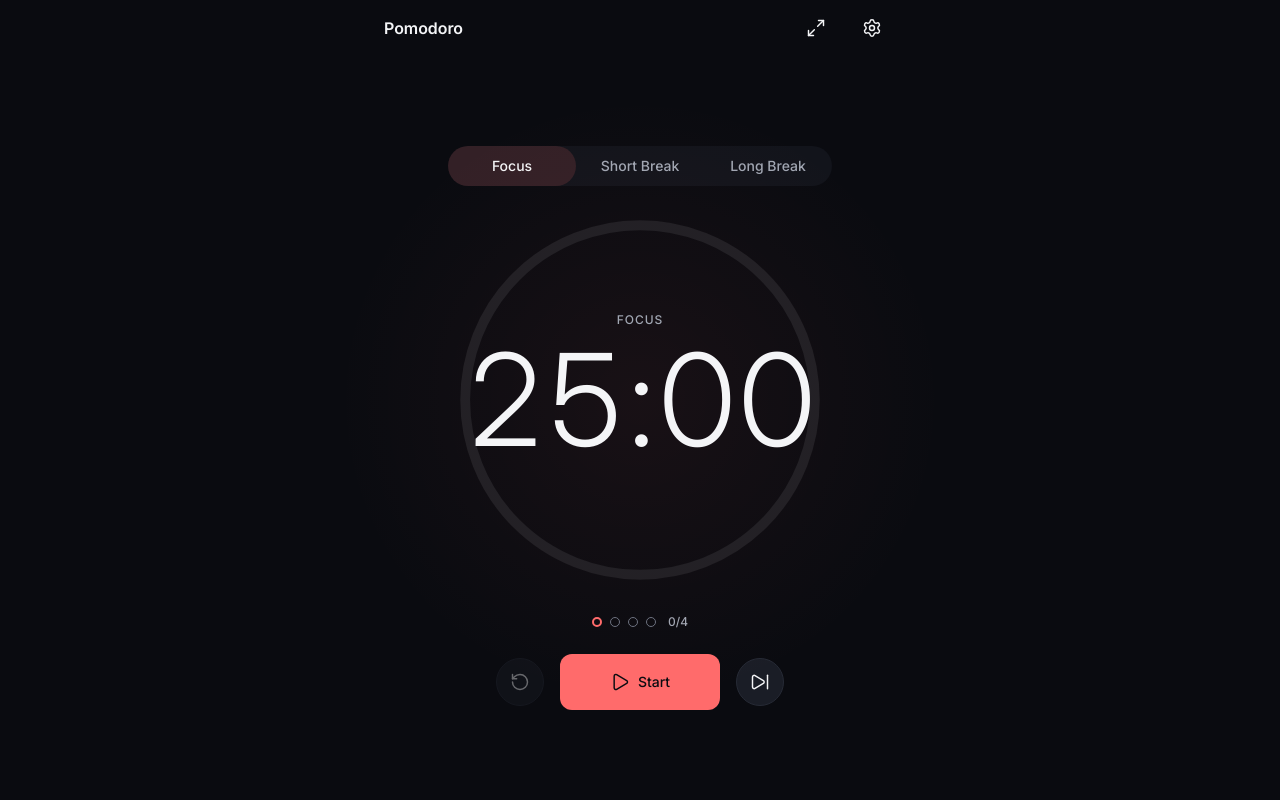
Settings notification status (POMO-AC15, POMO-AC25) › unsupported: N4 with Sound on, N5 with Sound off, no button, no error
Step 1. Click the button named "Open settings" → (872, 28), box [848, 4, 896, 52]
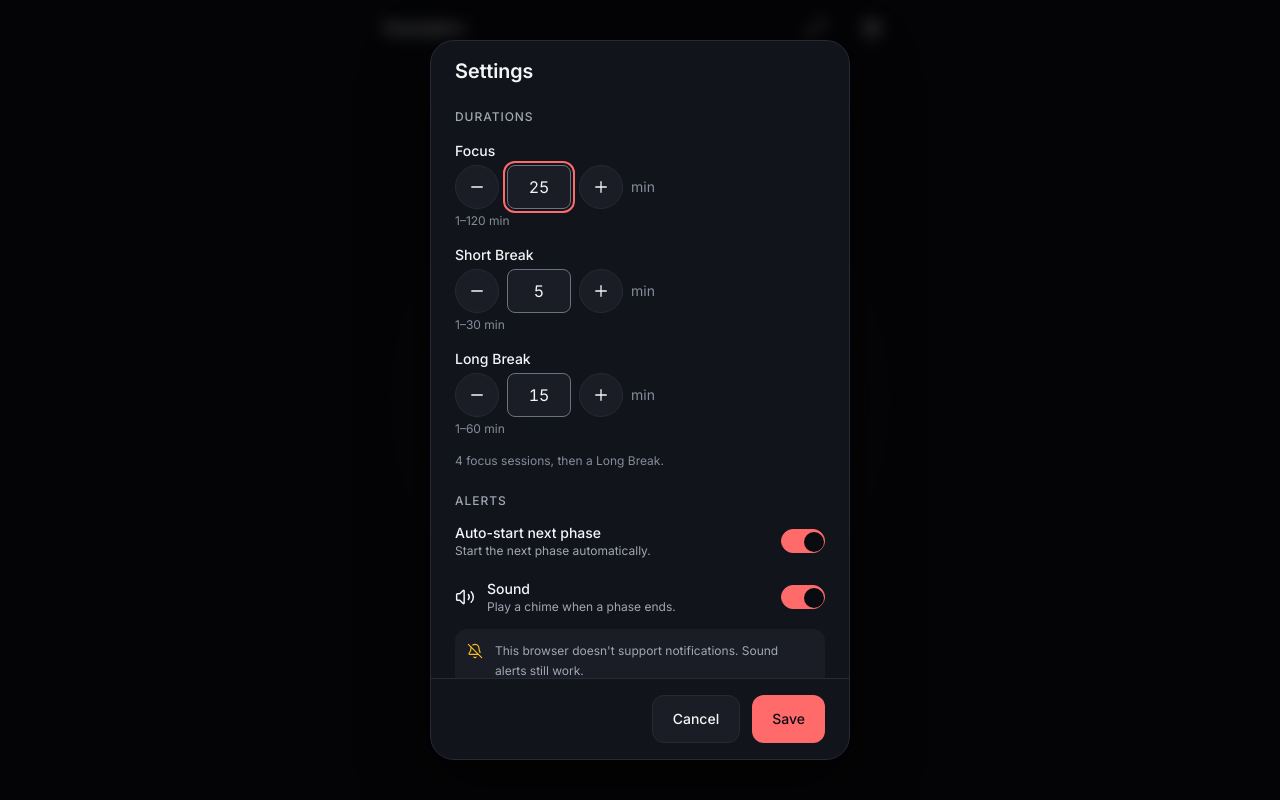
Check: the text "This browser doesn't support notifications. Sound alerts still work." is shown, box [495, 641, 813, 678]
Step 2. Click the switch labelled "Sound" → (640, 597), box [455, 573, 825, 621]
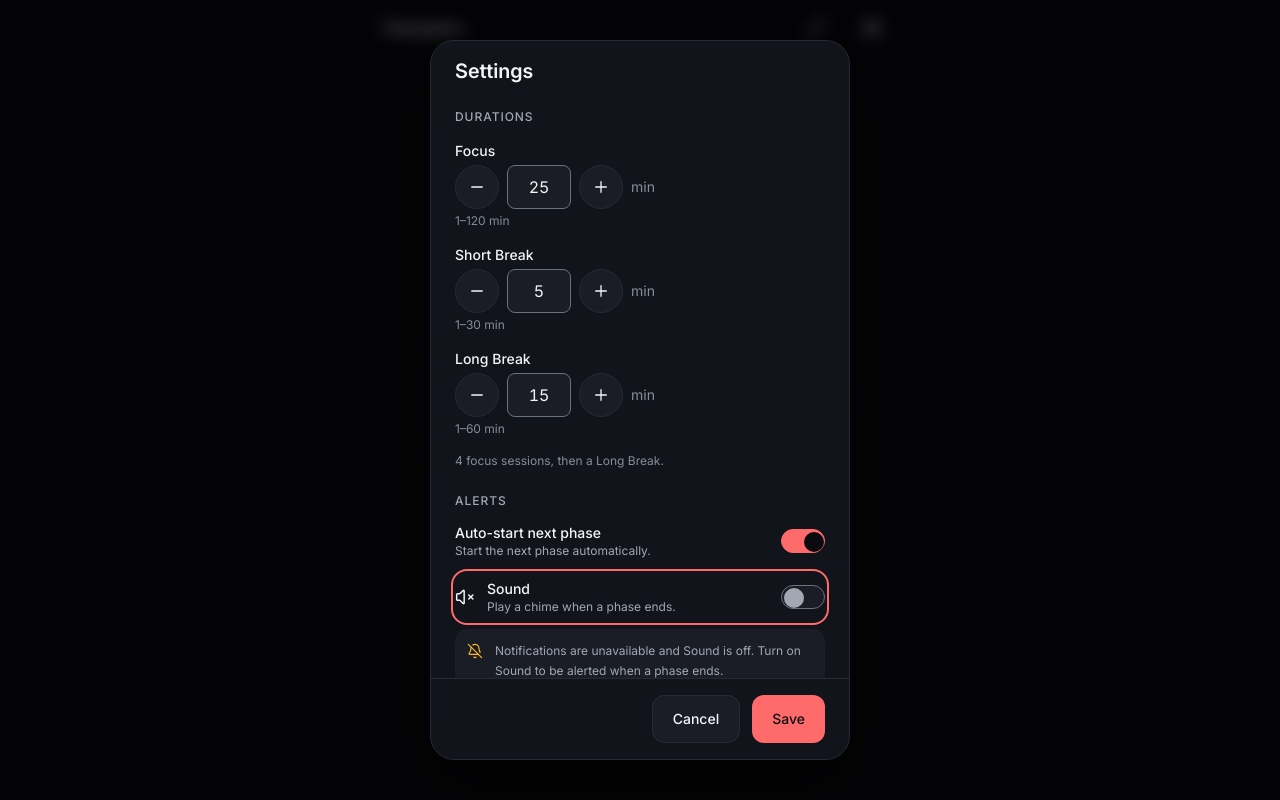
Check: the text "Notifications are unavailable and Sound is off. Turn on Sound to be alerted when a phase ends." is shown, box [495, 643, 801, 678]
